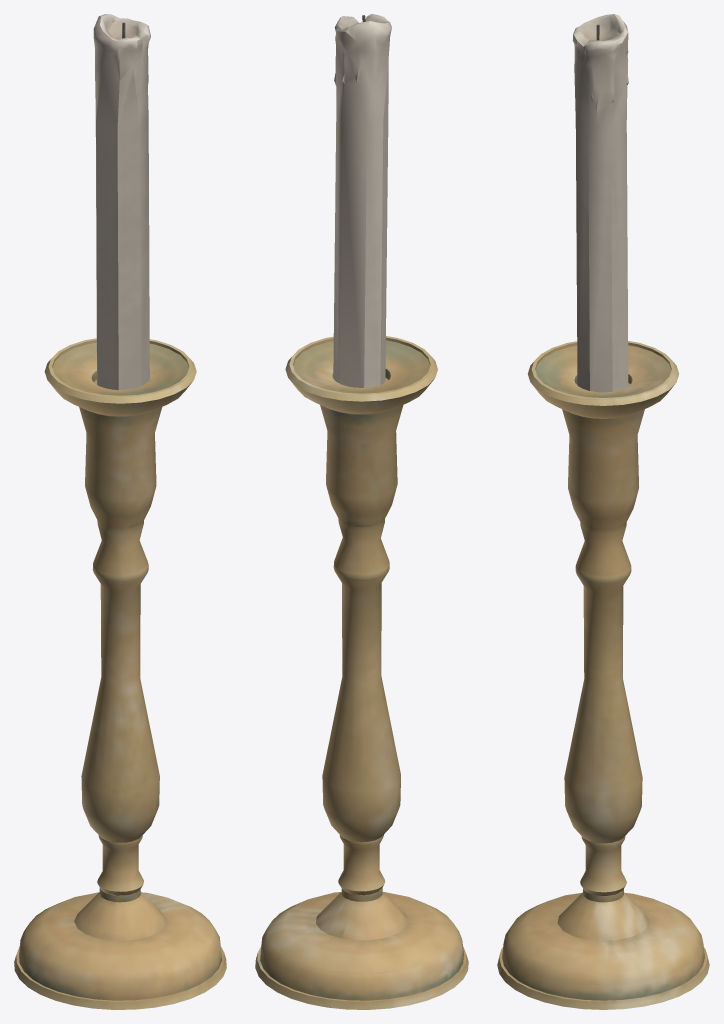
Rendered from candlestick-tall.glb.
3 renders of one model, left to right at view 1: azimuth 30°, elevation 25°; view 2: azimuth 150°, elevation 25°; view 3: azimuth 270°, elevation 25°, orthographic.
Parts seen in each view (by area): view 1: candlestick-tall; view 2: candlestick-tall; view 3: candlestick-tall.
Boxes of the visible parts, x1,y1,x2,y2 form: candlestick-tall: [14, 14, 226, 1009]; candlestick-tall: [255, 14, 468, 1009]; candlestick-tall: [497, 14, 709, 1009].
Bounding box in the file's own units: 0.0841 × 0.4123 × 0.0841.
1 material, 1 textured.
